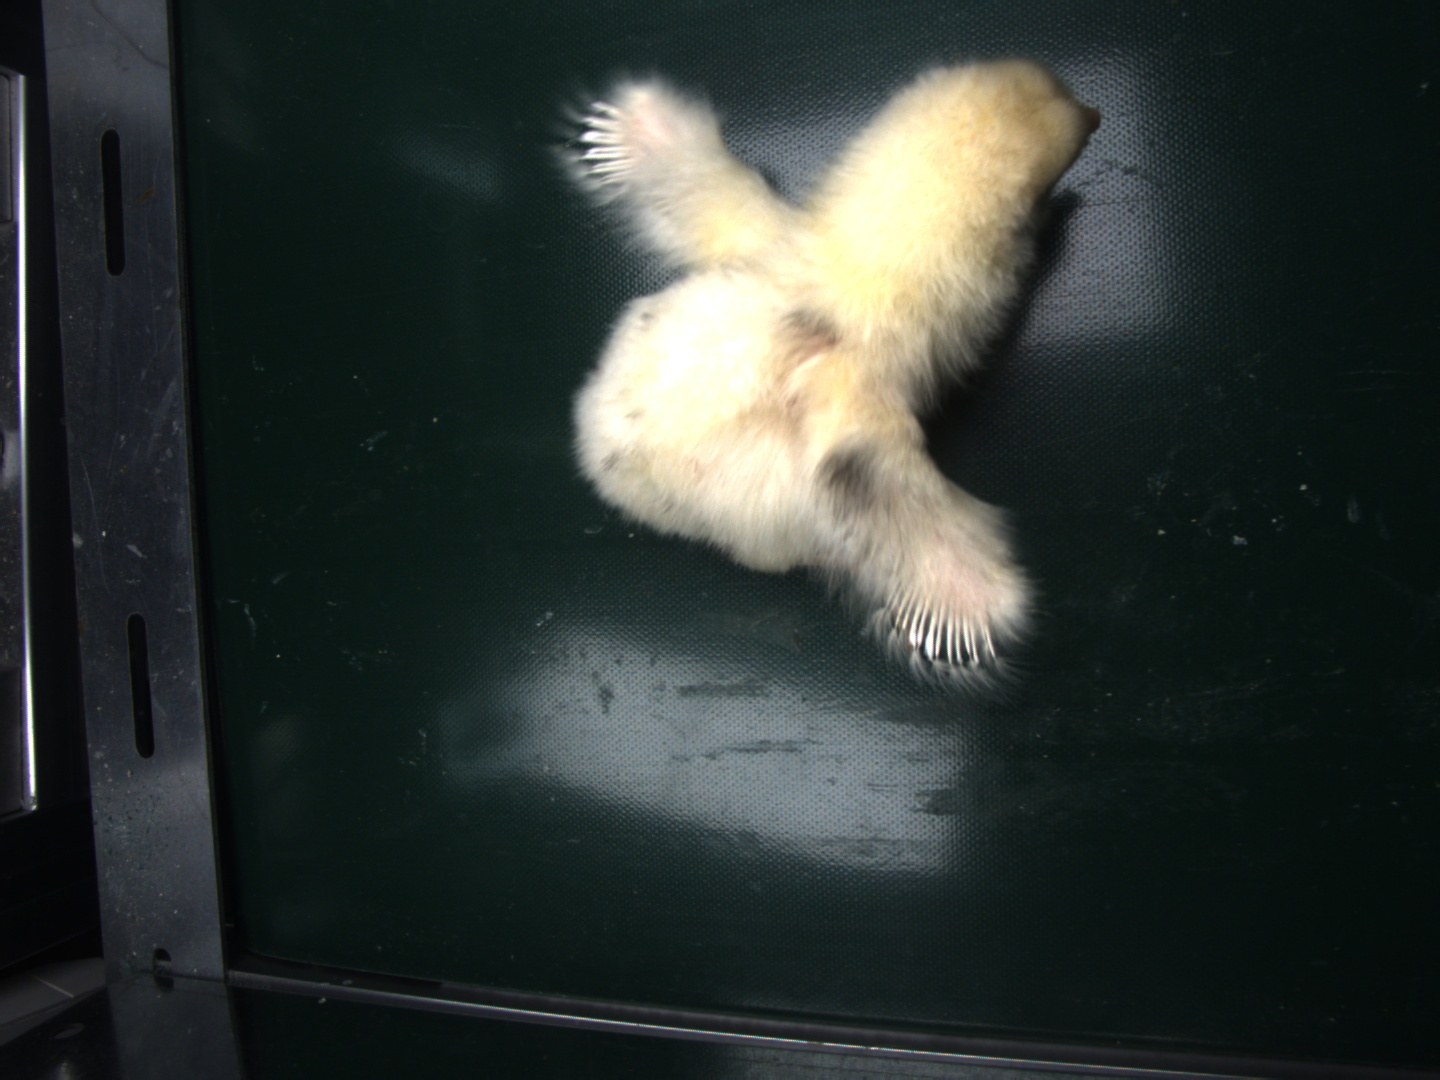male: (886, 588, 1006, 672), (576, 98, 638, 192)
